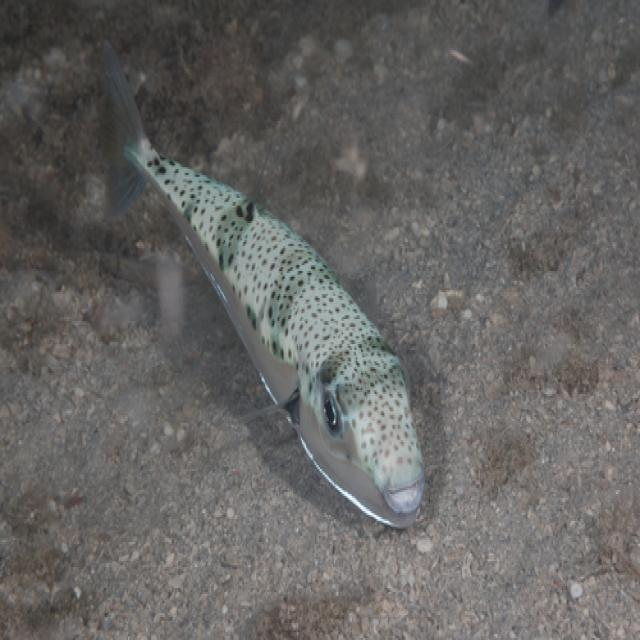Balik: (104, 43, 423, 526)
